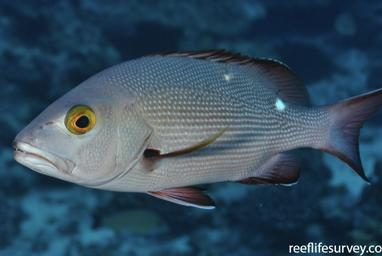Lutjanidae -Snappers-: (5, 42, 382, 214)
